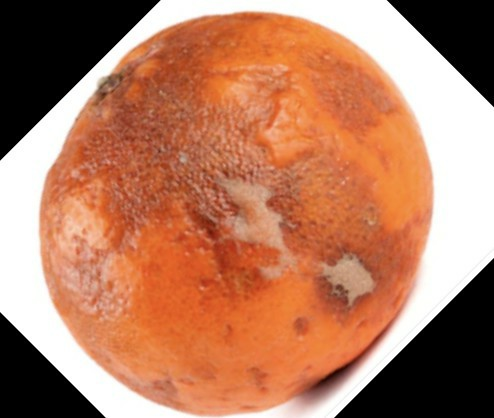rotten_orange: (44, 12, 431, 413)
